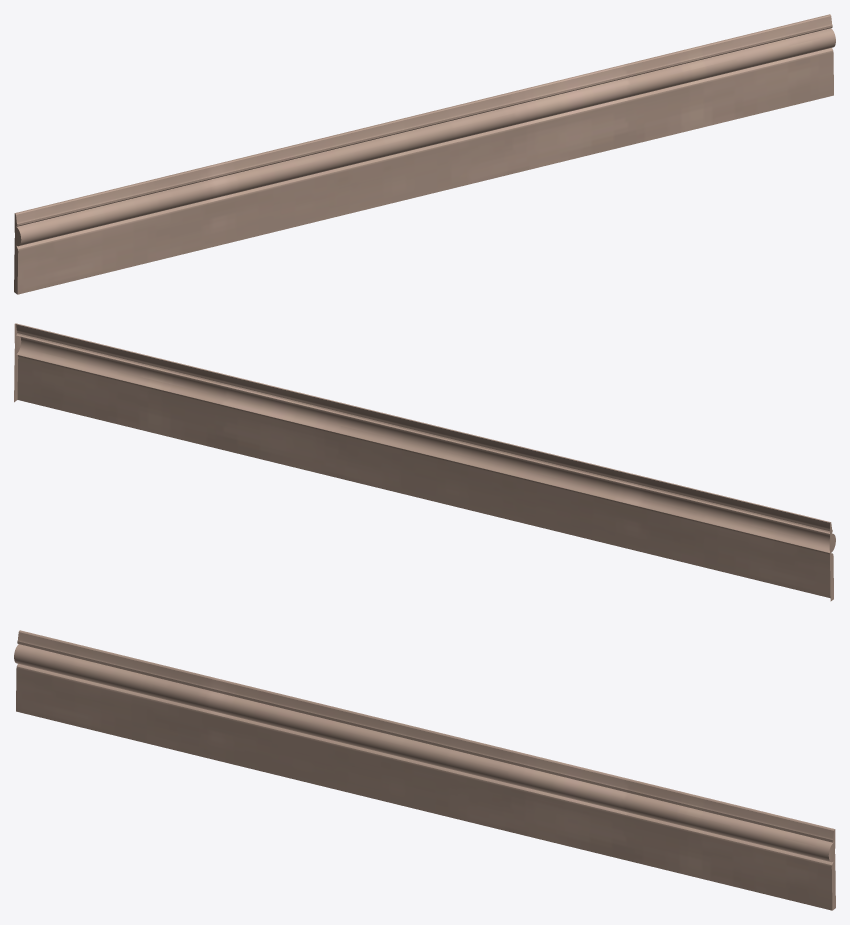
The model's file is Wall_Baseboard.fbx.
3 renders of one model, top to bottom at view 1: azimuth 30°, elevation 25°; view 2: azimuth 150°, elevation 25°; view 3: azimuth 330°, elevation 25°, orthographic.
Parts seen in each view (by area): view 1: Wall_Baseboard_Left, Wall_Baseboard_Right; view 2: Wall_Baseboard_Right, Wall_Baseboard_Left; view 3: Wall_Baseboard_Right, Wall_Baseboard_Left.
Boxes of the visible parts, x1,y1,x2,y2 form: Wall_Baseboard_Left: (14,114,427,294); Wall_Baseboard_Right: (422,14,835,195); Wall_Baseboard_Right: (14,323,429,499); Wall_Baseboard_Left: (423,423,835,601); Wall_Baseboard_Right: (420,729,835,910); Wall_Baseboard_Left: (14,630,426,810).
Size of the model in its own units: 0.02 by 0.00185 by 0.000269.
